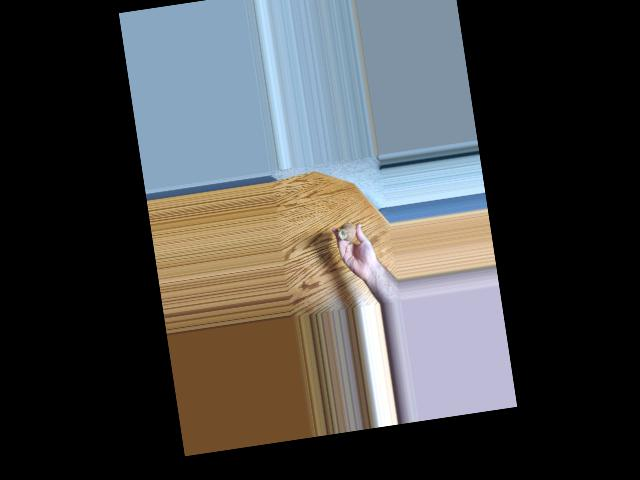sweet_potato: (337, 220, 357, 241)
